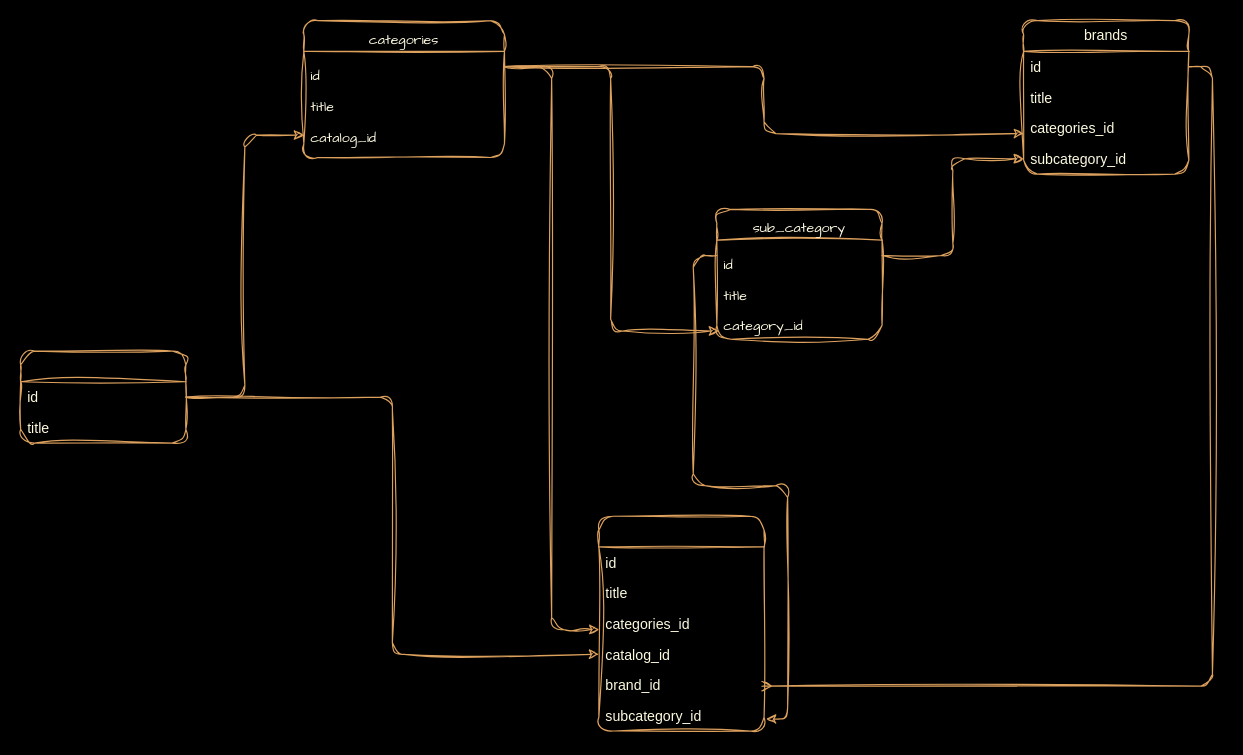
The diagram is 1243 pixels wide and 755 high, and some of its shapes have lost their labels. Each missing label, with the box of its shape:
catalog: (19, 350, 186, 443)
products: (598, 515, 764, 731)
